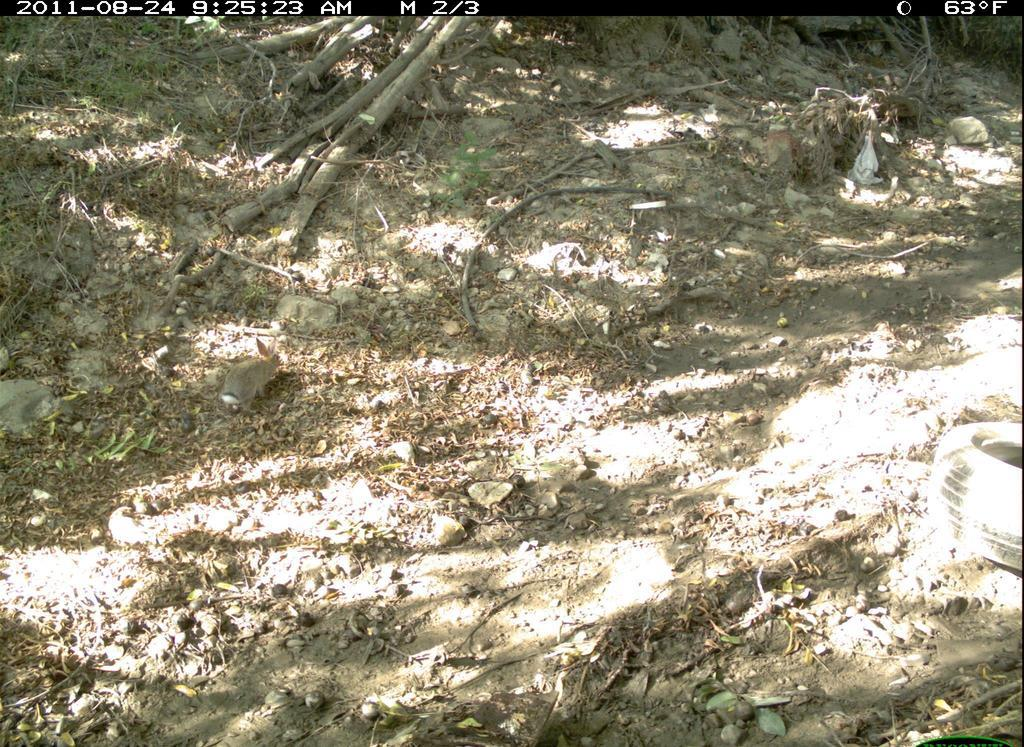rabbit: (204, 333, 303, 425)
